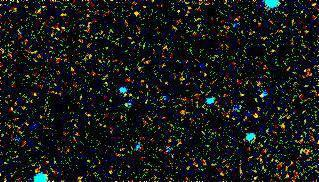star: (119, 0, 149, 23)
